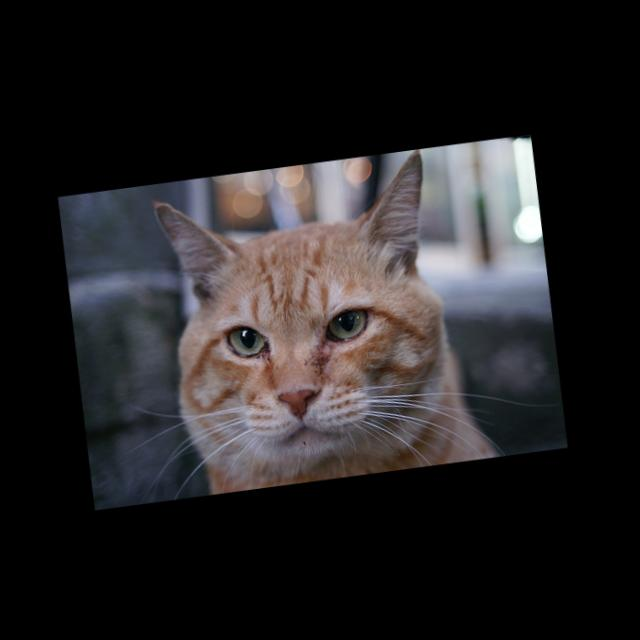animals: (152, 148, 453, 432)
